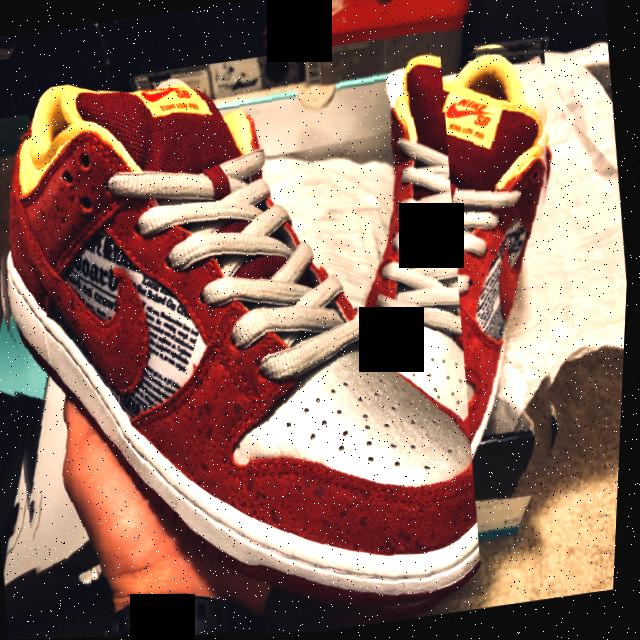shoe: (0, 31, 510, 640), (312, 32, 600, 522)
